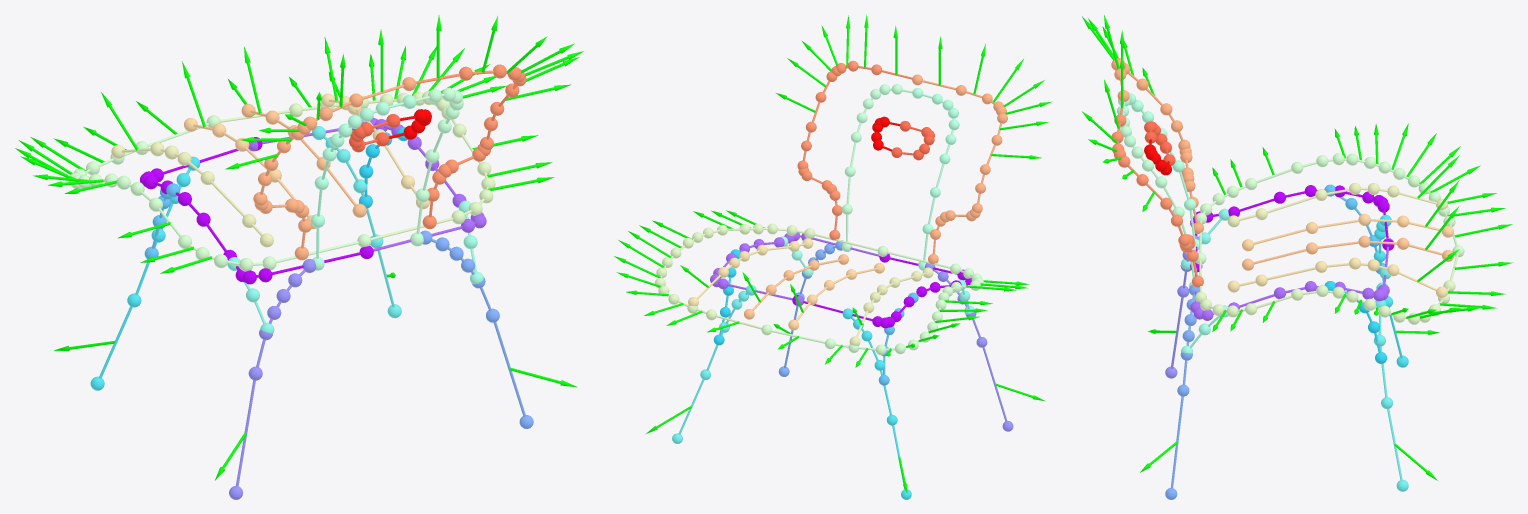
File: author1_chair.gltf
The picture shows the model from 3 angles, left to right: view 1: azimuth 30°, elevation 25°; view 2: azimuth 150°, elevation 25°; view 3: azimuth 270°, elevation 25°; orthographic projection. The views are drawn at different scales.
Bounding box in the file's own units: 0.7444 × 0.7194 × 0.7096.
